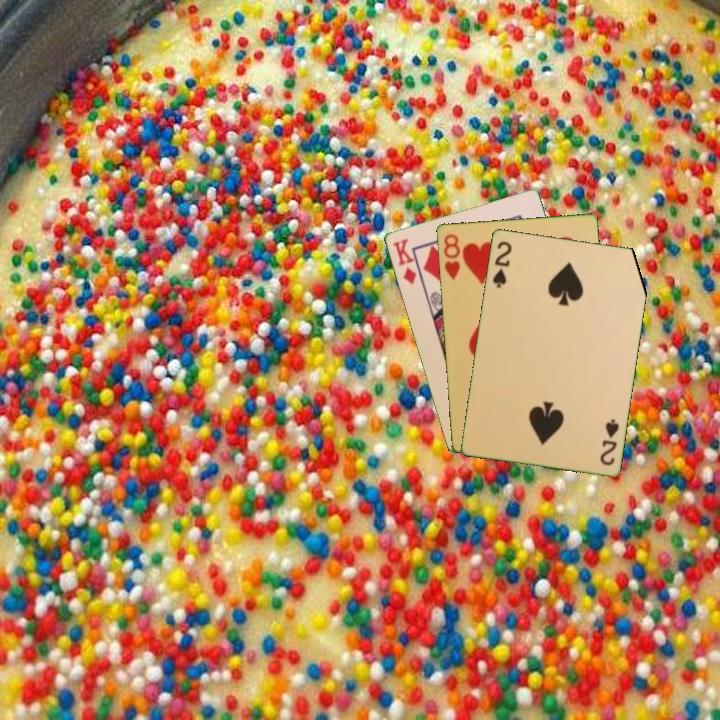2s: (596, 415, 622, 468), (489, 237, 514, 291)
8h: (440, 230, 463, 283)
Kd: (389, 235, 424, 287)
